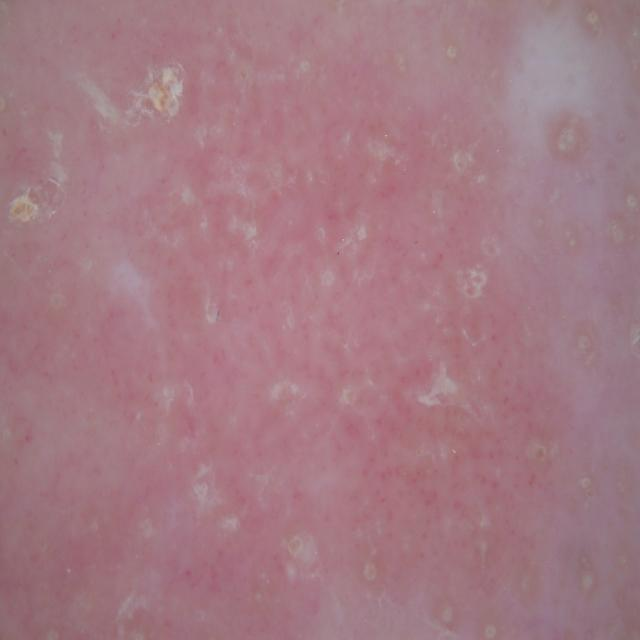Skin-Cancer Seborrheic keratosis: (2, 4, 632, 640)
